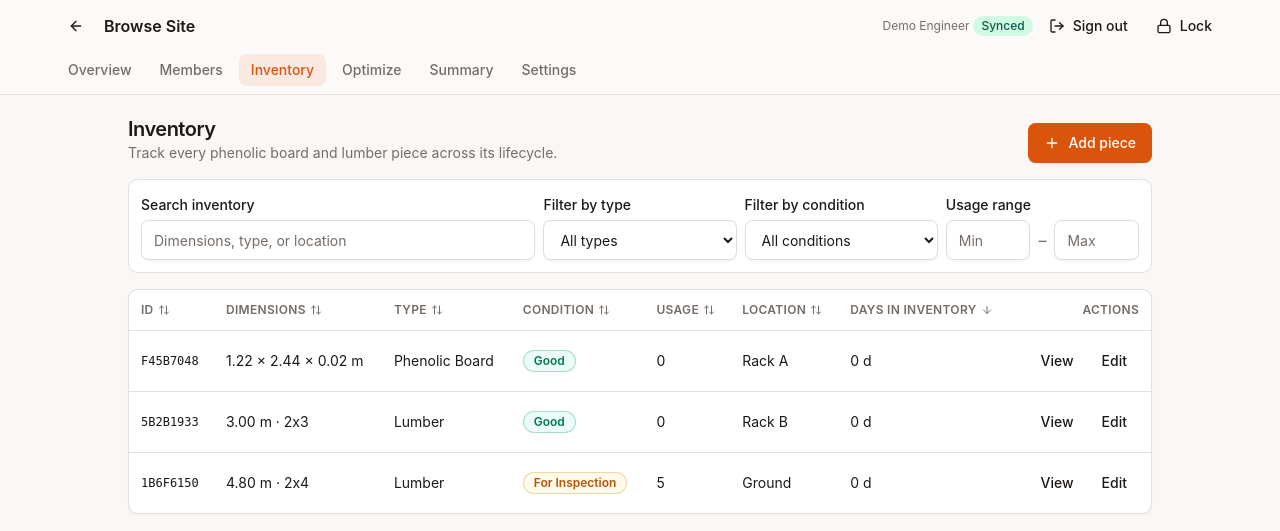
Scenario: ProjectInventoryScreen search, filter, and sort › filters by material type, condition, and usage range
Check: the heading "Inventory" is shown, box x1=128 y1=117 x2=215 y2=141
Select "Lumber" in the dropdown labelled "Filter by type" at (640, 240), box x1=543 y1=220 x2=737 y2=260
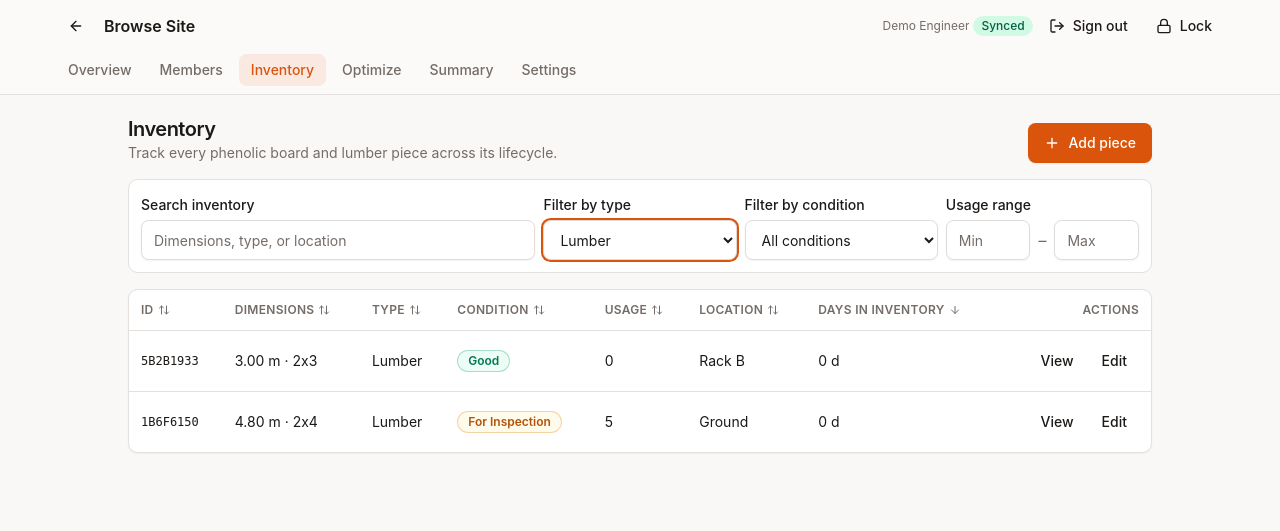
Check: the row "5B2B1933 3.00 m · 2x3 Lumber Good 0 Rack B 0 d View Edit" is shown, box x1=129 y1=330 x2=1151 y2=391
Check: the text "Rack A" is gone
Select "All types" in the dropdown labelled "Filter by type" at (640, 240), box x1=543 y1=220 x2=737 y2=260
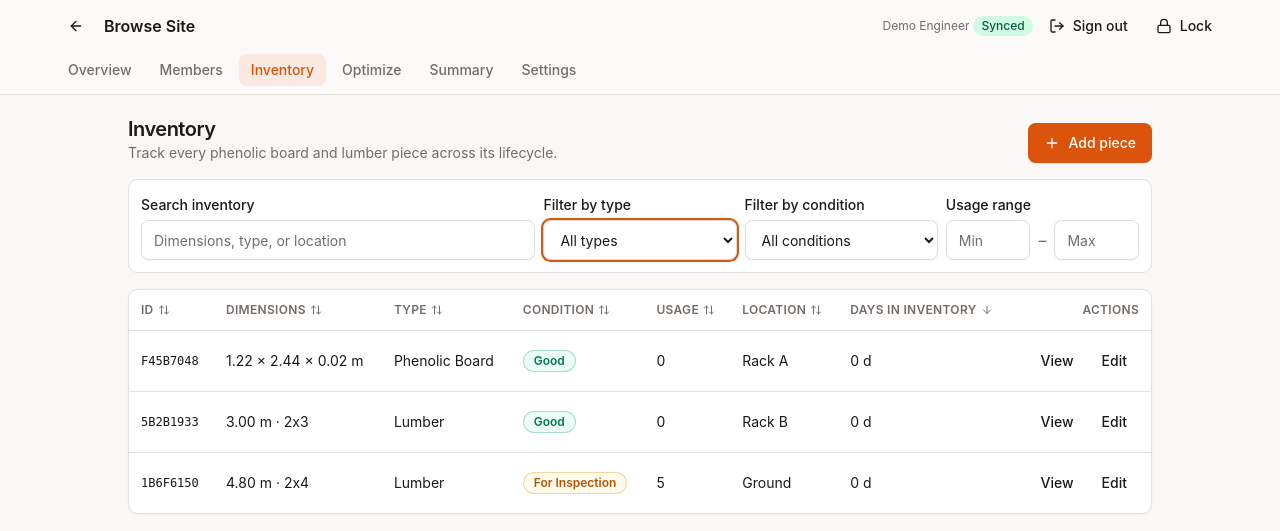
Type "1" into the number field named "minimum uses".
click(988, 240); type("1")  # box x1=946 y1=220 x2=1030 y2=260
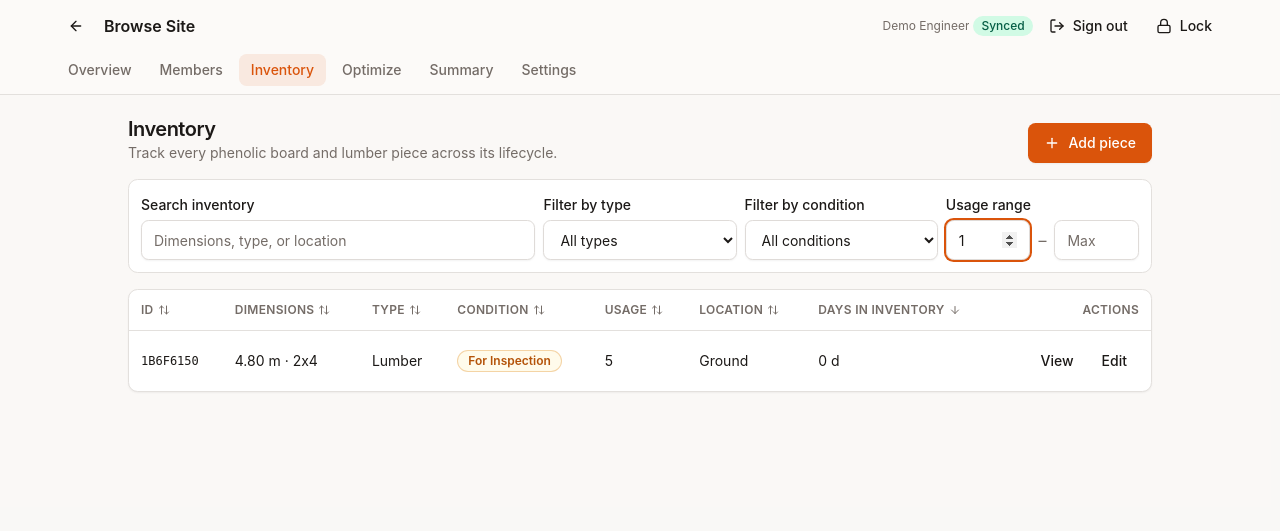
Check: the row "Ground" is shown, box x1=129 y1=330 x2=1151 y2=390
Check: the text "Rack B" is gone
Check: the text "Rack A" is gone
Clear the number field named "minimum uses" at (988, 240), box x1=946 y1=220 x2=1030 y2=260
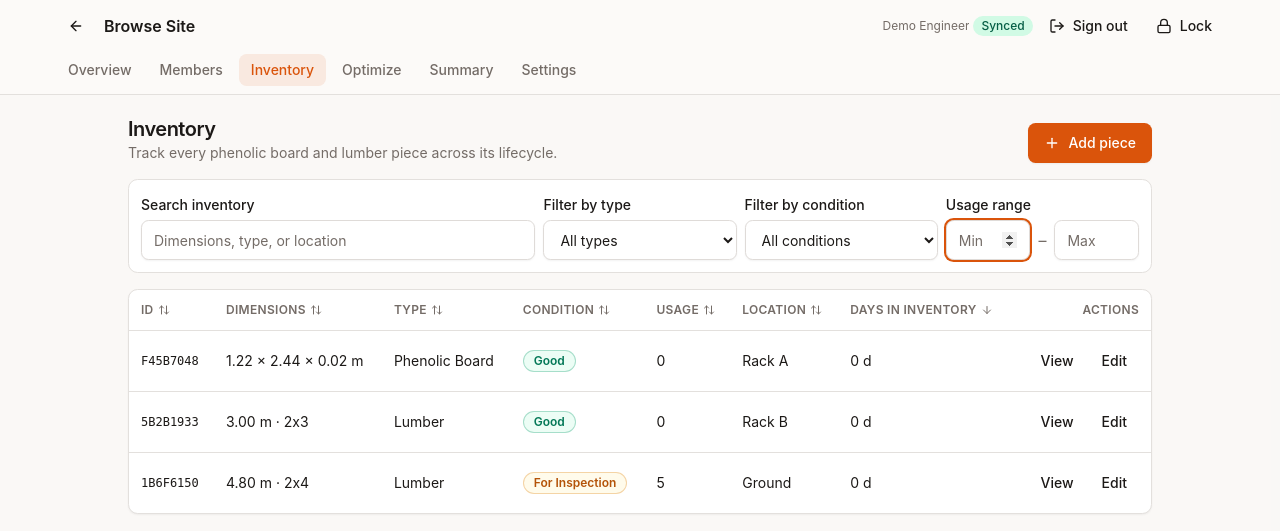
Select "Good" in the dropdown labelled "Filter by condition" at (841, 240), box x1=745 y1=220 x2=938 y2=260
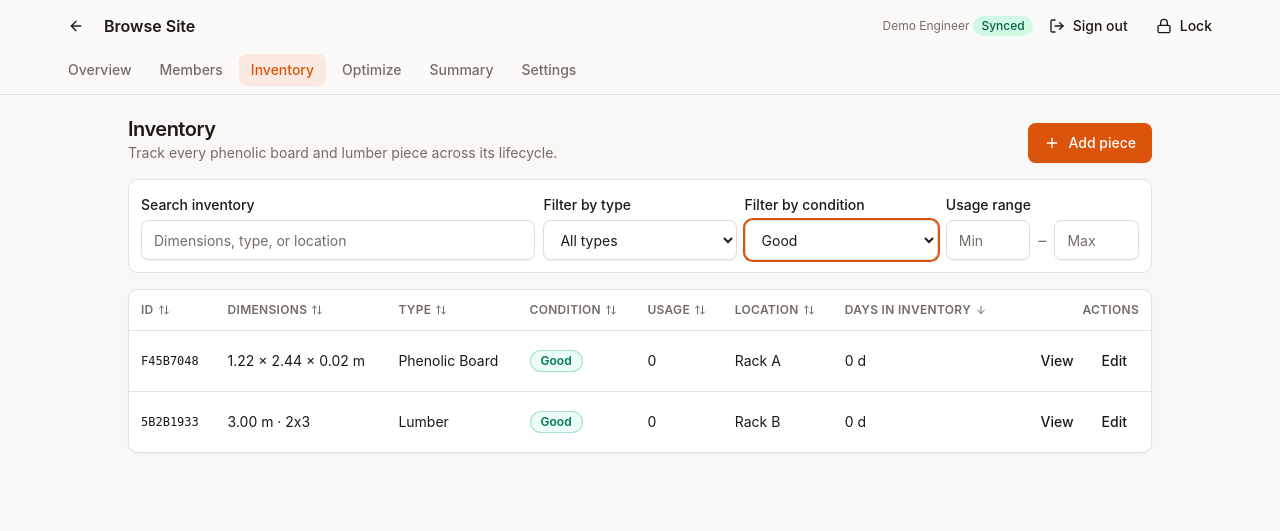
Check: the row "Rack A" is shown, box x1=129 y1=330 x2=1151 y2=391
Check: the row "5B2B1933 3.00 m · 2x3 Lumber Good 0 Rack B 0 d View Edit" is shown, box x1=129 y1=391 x2=1151 y2=452
Check: the text "Ground" is gone
